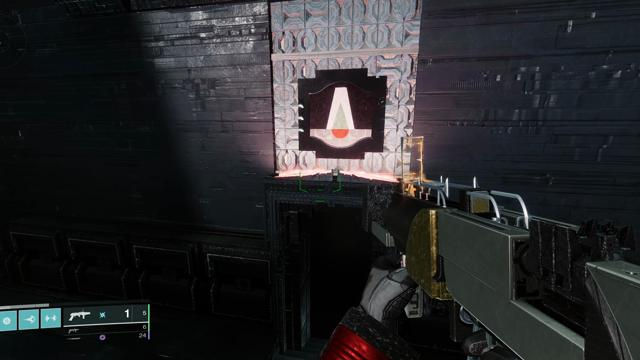enter: (309, 81, 373, 148)
